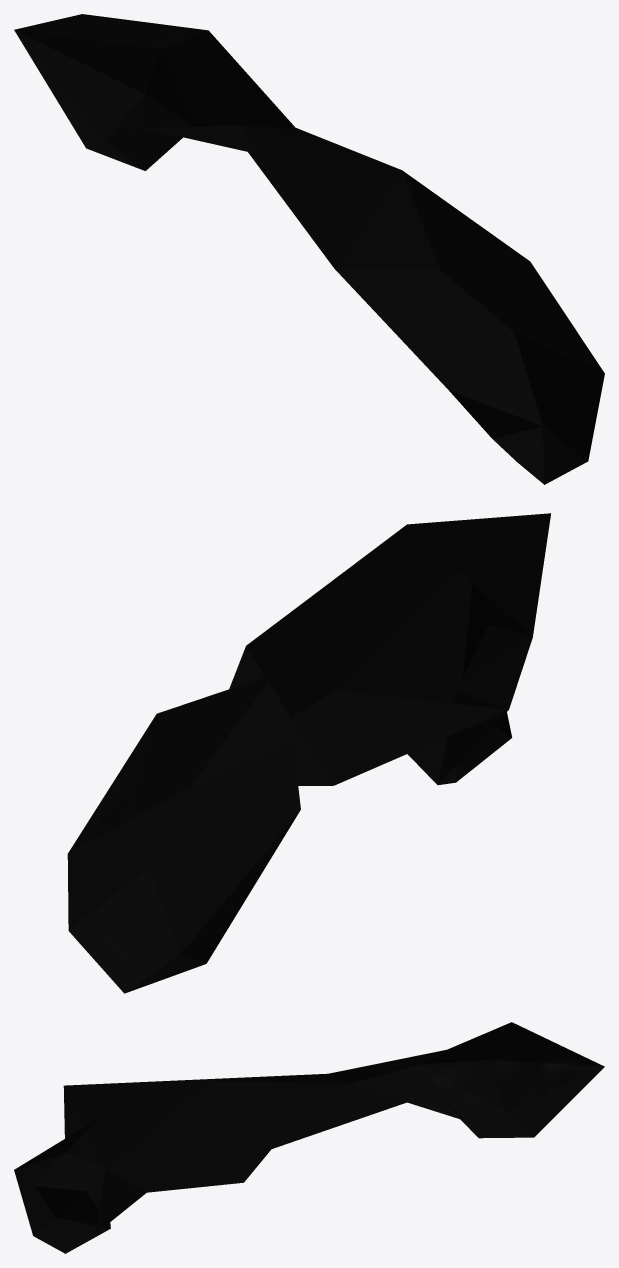
3 views of the same model, one above another, from view 1: azimuth 30°, elevation 25°; view 2: azimuth 150°, elevation 25°; view 3: azimuth 270°, elevation 25° (orthographic). The views are drawn at different scales.
Size of the model in its own units: 0.1018 by 0.1383 by 0.4003.
Materials: 1 (1 with a texture image).
